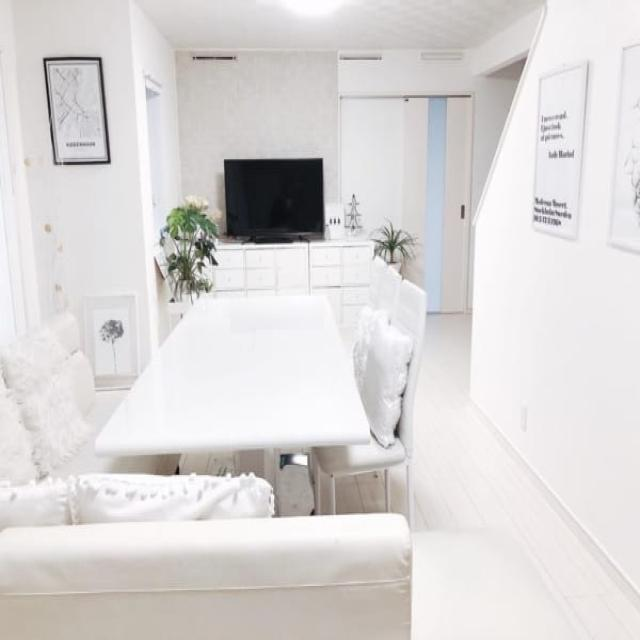white desk: (111, 290, 374, 465)
